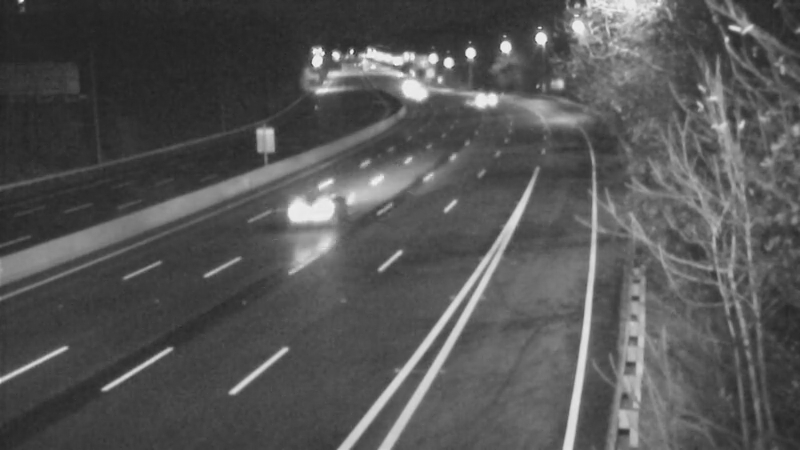vehicle: (263, 170, 343, 250), (386, 67, 436, 117), (397, 69, 447, 119), (450, 69, 500, 119)
